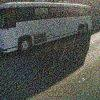buses: (0, 1, 95, 55)
